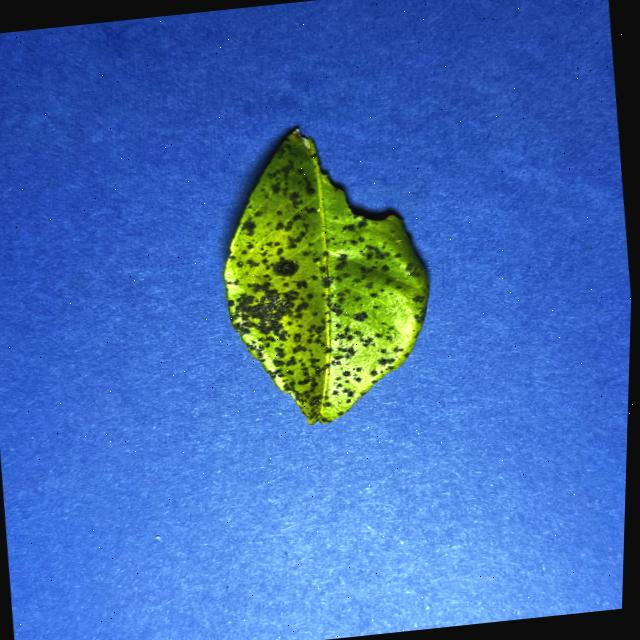sooty_mold: (222, 129, 428, 422)
